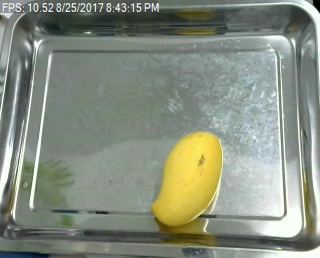Mango: (149, 130, 224, 227)
